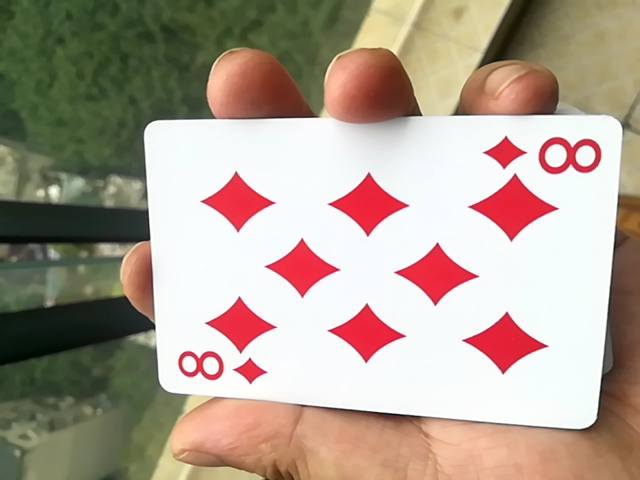fk 8: (127, 119, 616, 440)
